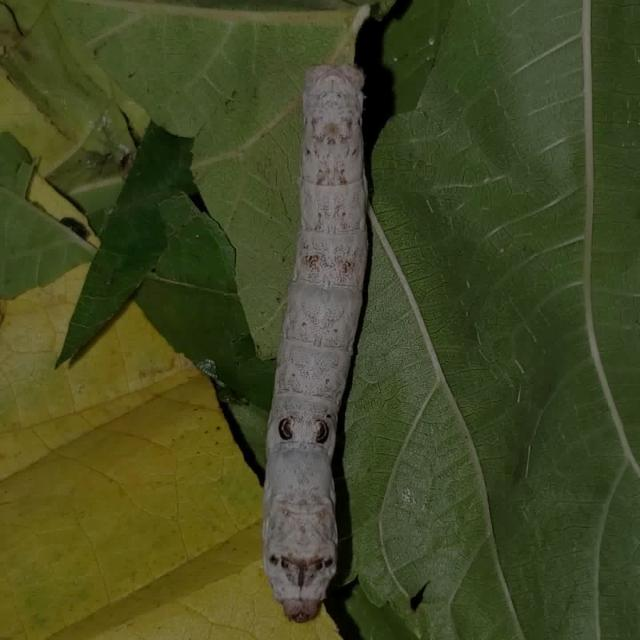Healthy: (239, 45, 402, 636)
